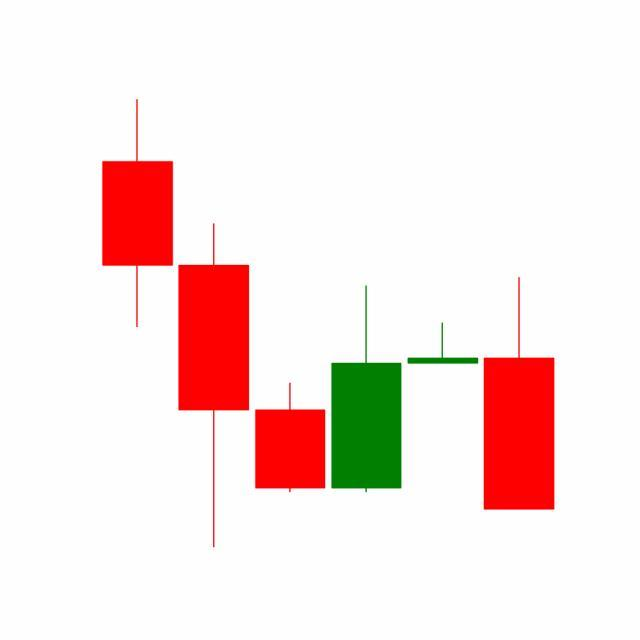Gravestone Doji: (404, 322, 482, 364)
